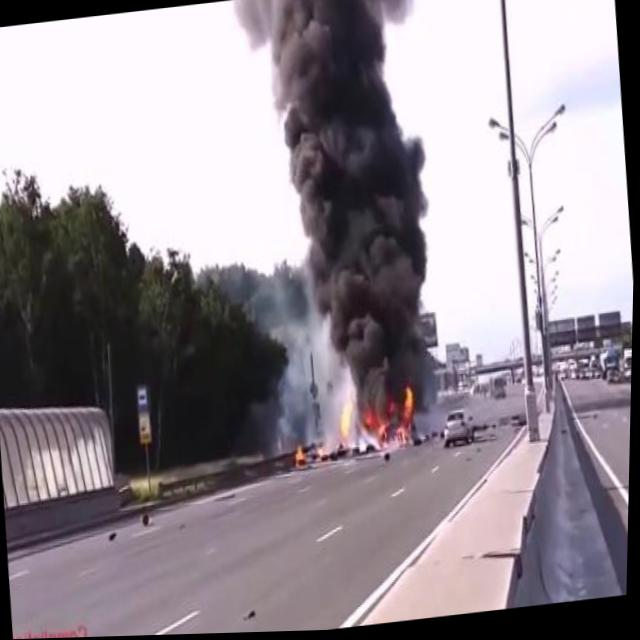fire: (335, 378, 423, 461), (294, 444, 324, 471)
